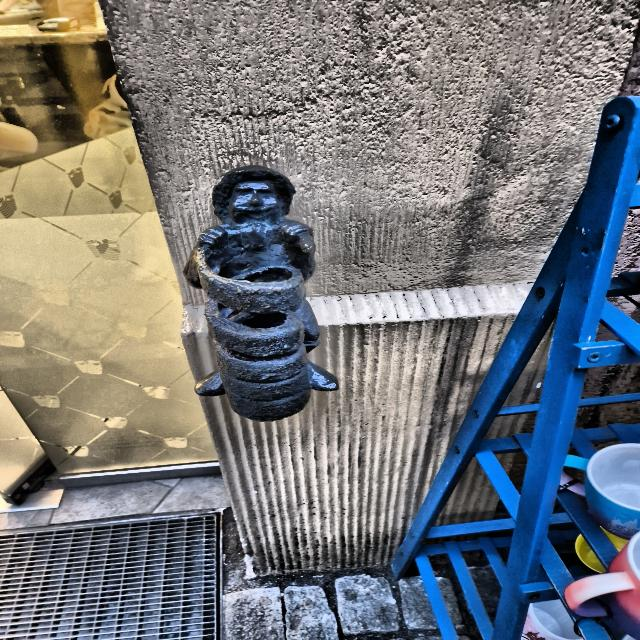Czimnejek: (175, 160, 348, 434)
